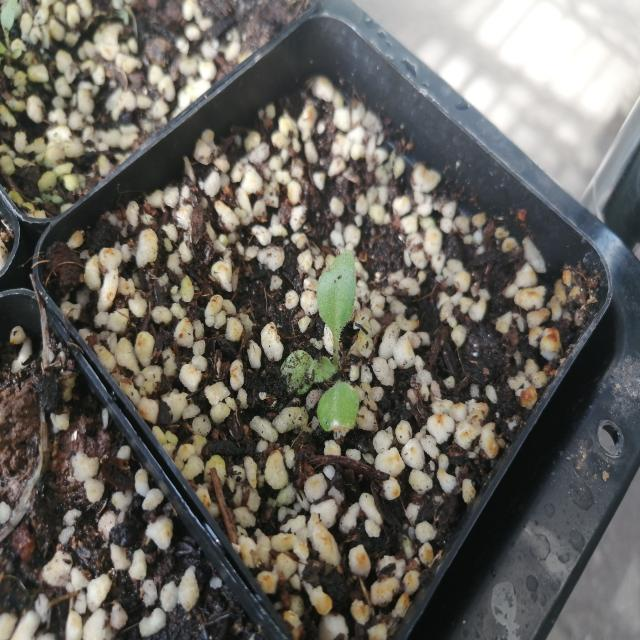field_thistle: (241, 215, 410, 434)
